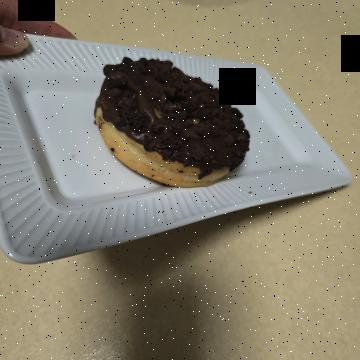doughnut: (47, 114, 197, 294)
